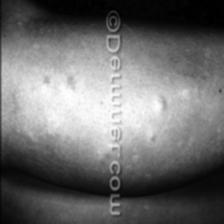Toxin: (154, 87, 168, 115), (63, 72, 75, 93), (147, 130, 157, 144)
